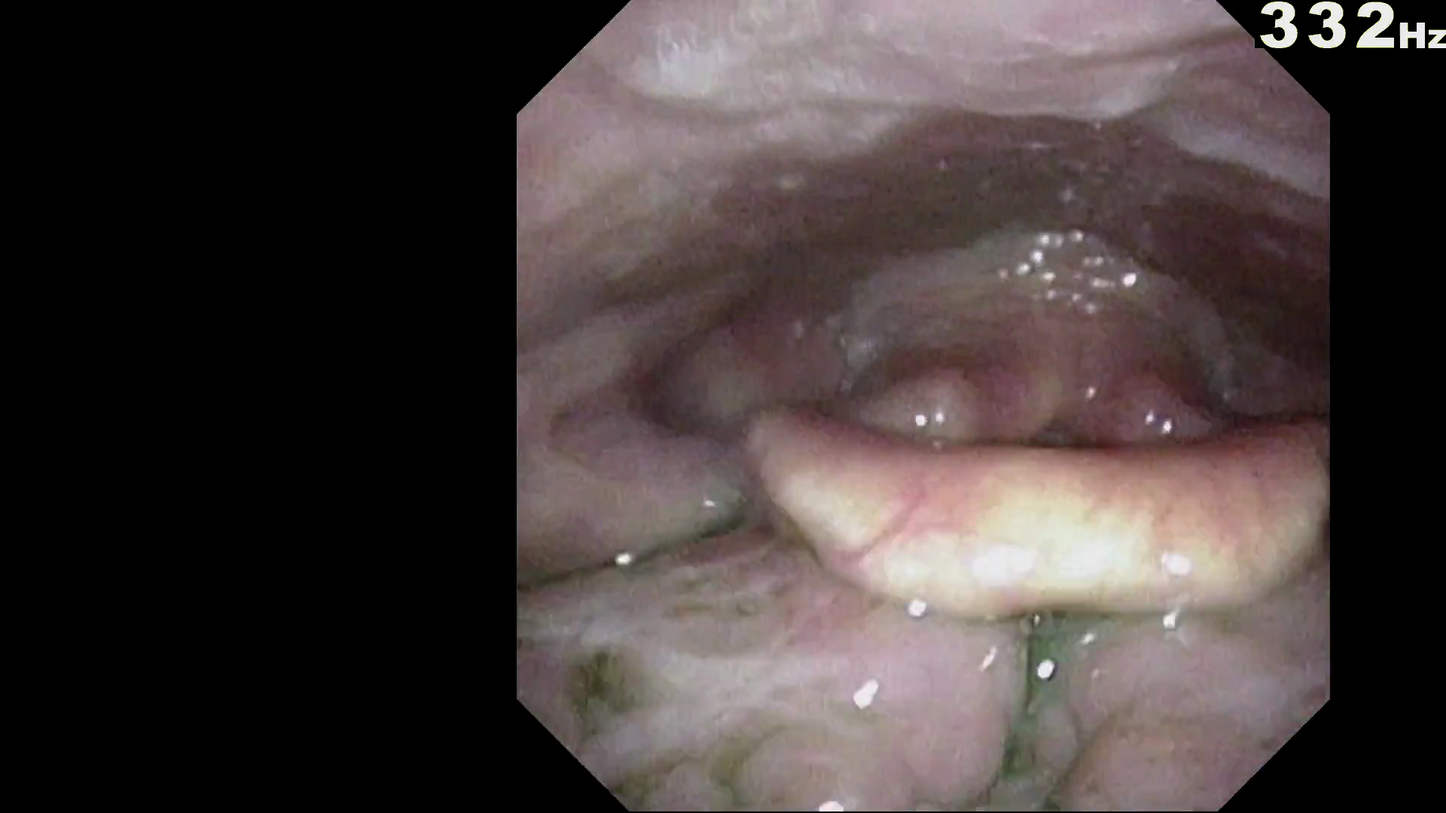epiglottis: (702, 366, 1320, 592), (713, 426, 1323, 632)
trachea: (991, 418, 1112, 538)
